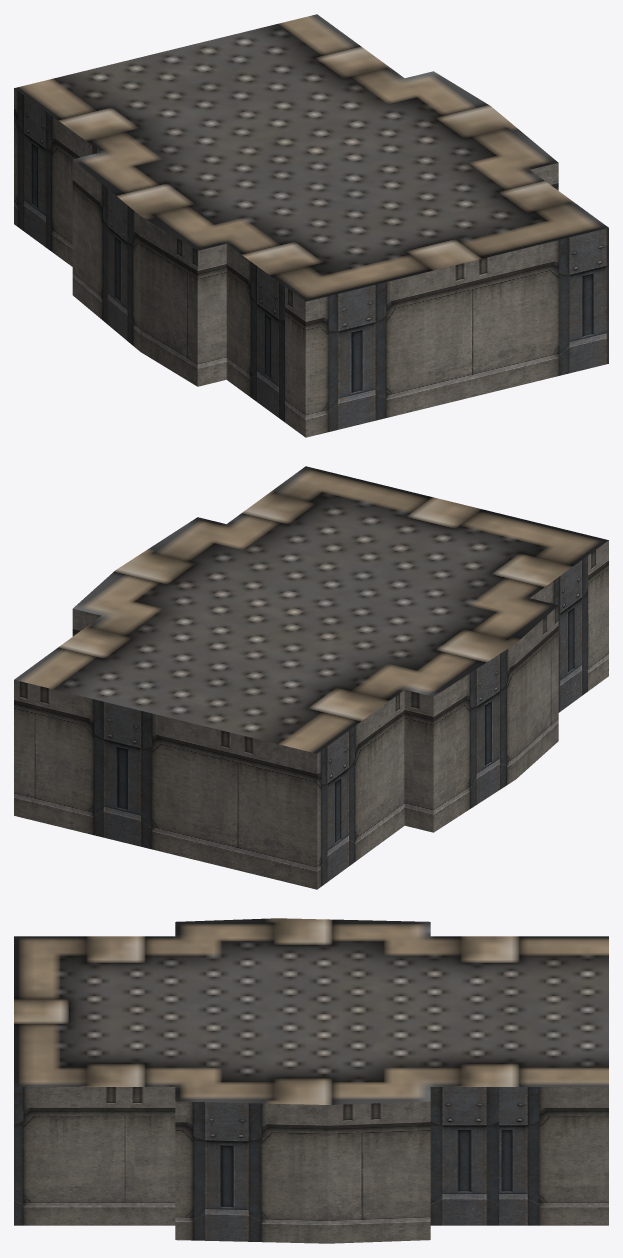
The model's file is building_heavy_a_01.glb.
3 views of the same model, one above another, from view 1: azimuth 30°, elevation 25°; view 2: azimuth 150°, elevation 25°; view 3: azimuth 270°, elevation 25° (orthographic).
Parts seen in each view (by area): view 1: buildings/saxarba/building_heavy/building_heavy_a_01; view 2: buildings/saxarba/building_heavy/building_heavy_a_01; view 3: buildings/saxarba/building_heavy/building_heavy_a_01.
Boxes of the visible parts, x1,y1,x2,y2 form: buildings/saxarba/building_heavy/building_heavy_a_01: (14, 14, 608, 437); buildings/saxarba/building_heavy/building_heavy_a_01: (14, 466, 608, 889); buildings/saxarba/building_heavy/building_heavy_a_01: (14, 918, 608, 1243).
Size of the model in its own units: 52 by 18 by 70.
